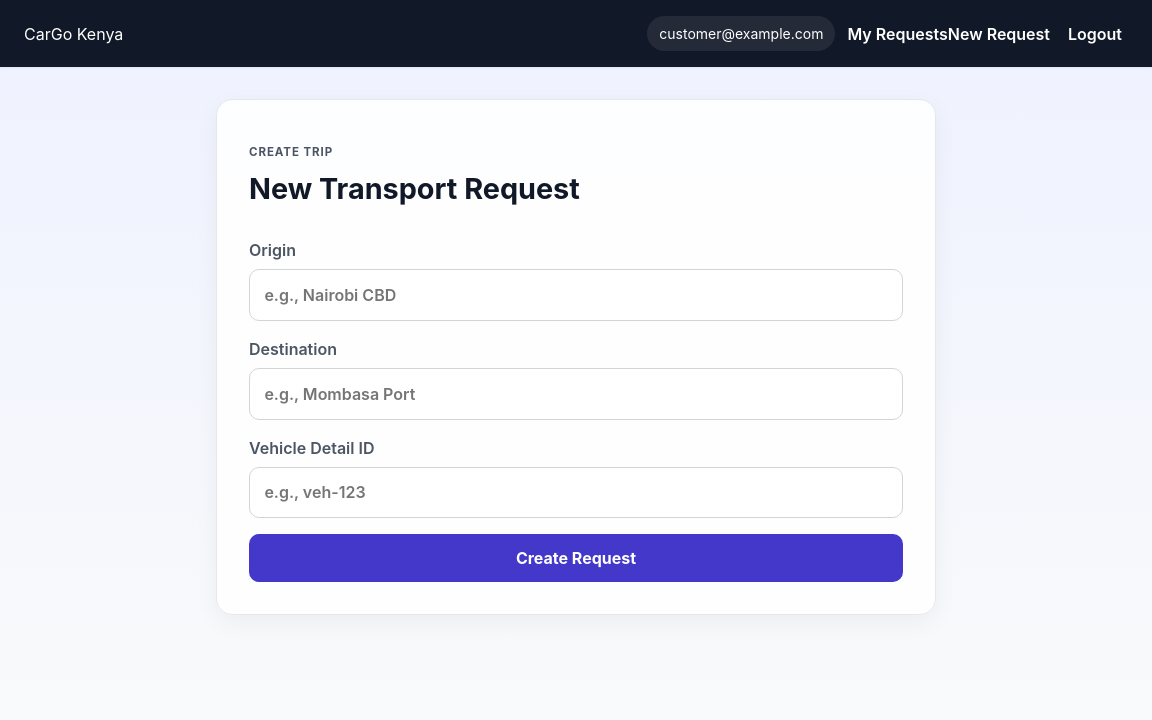
Test: customer foundation workflow › validates destination field when creating a transport request
In the field labelled "Origin": (576, 295) [249,269,903,321], type "Nairobi"
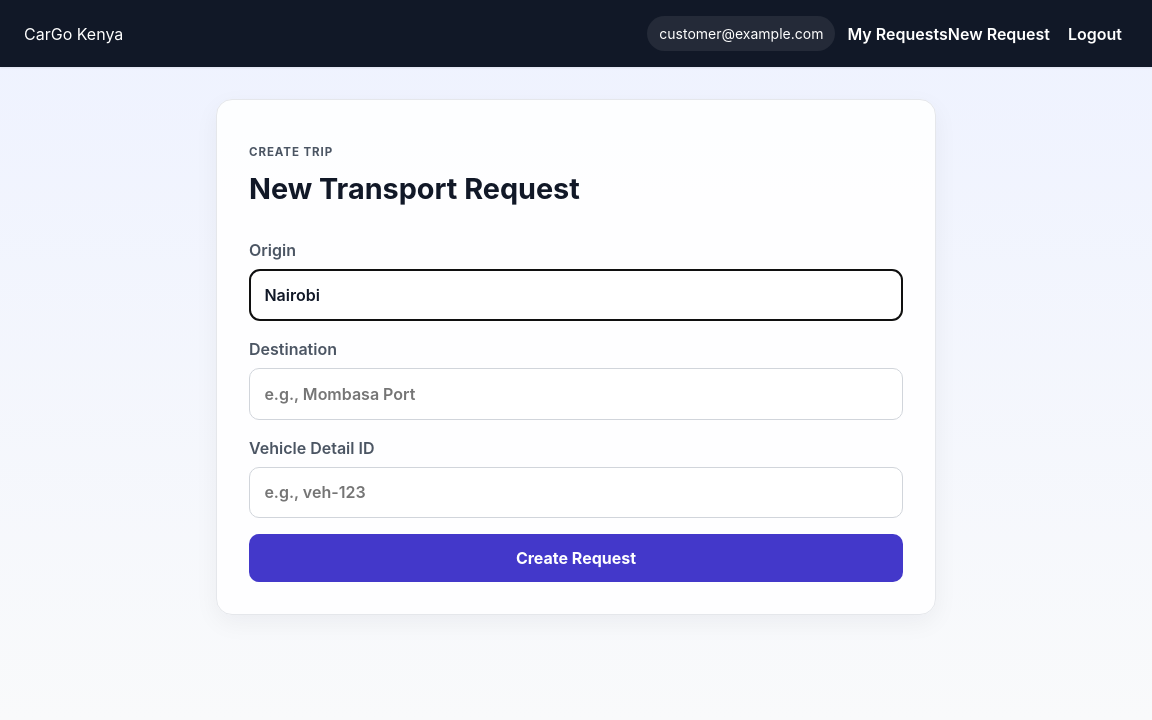
Click the button "Create Request": (576, 558) [249,534,903,582]
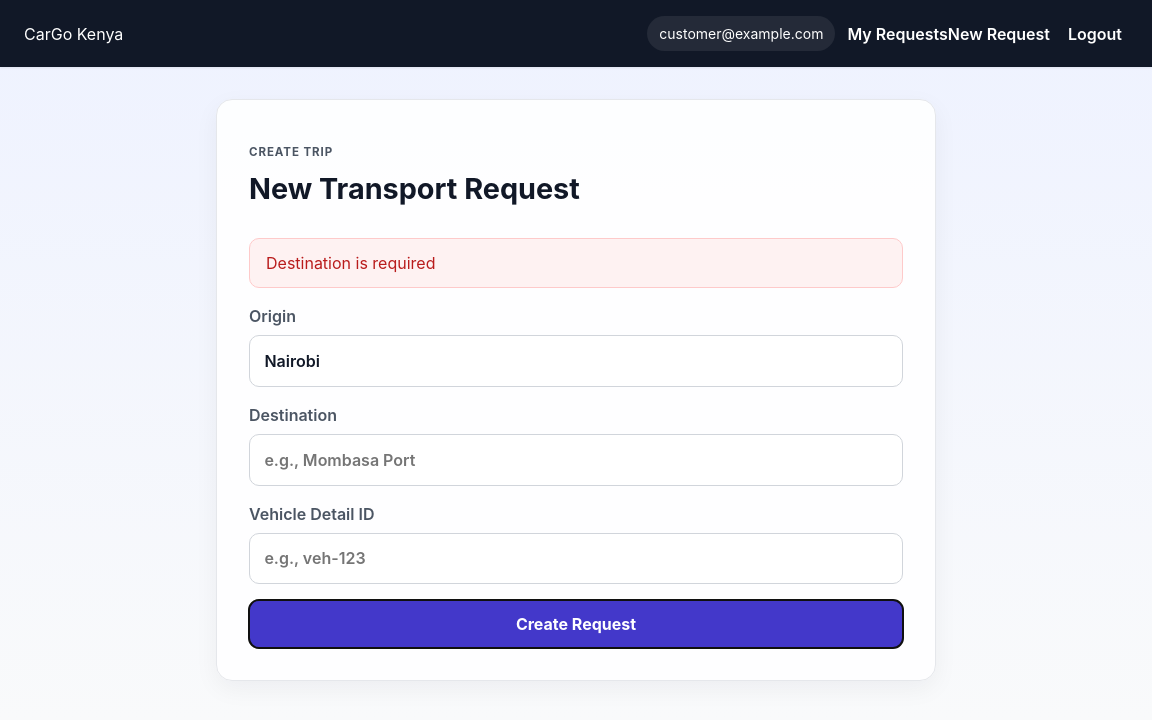
Result: the text "Destination is required" is shown at [249,238,903,288]
